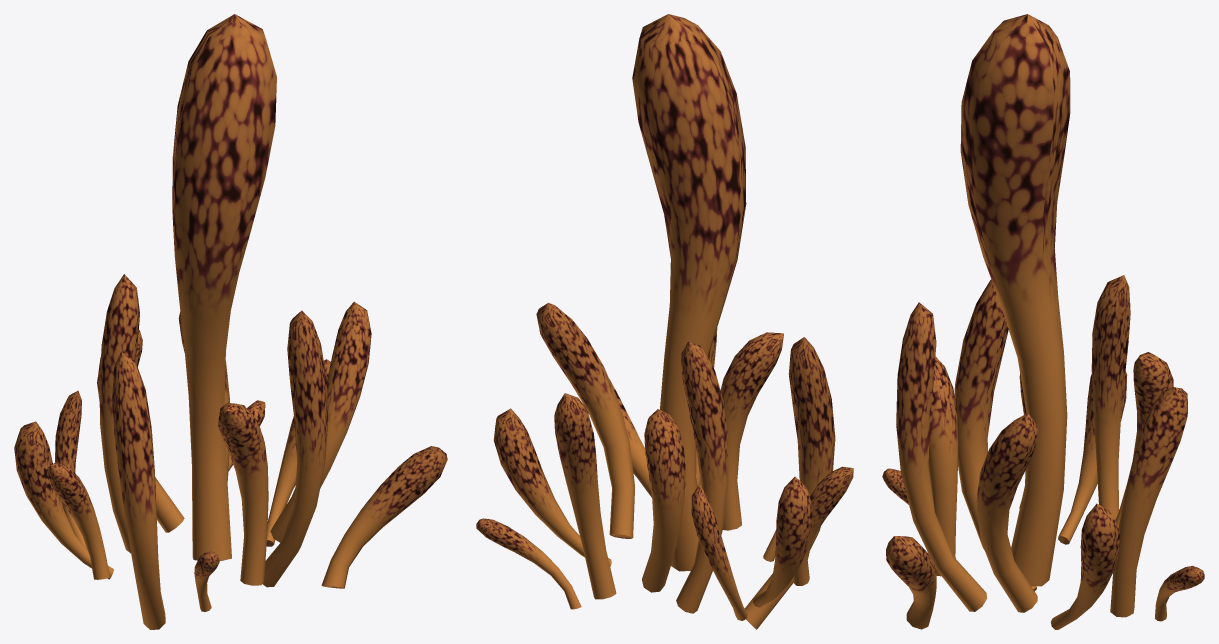
The model's file is cordyceps.glb.
3 renders of one model, left to right at view 1: azimuth 30°, elevation 25°; view 2: azimuth 150°, elevation 25°; view 3: azimuth 270°, elevation 25°, orthographic. The views are drawn at different scales.
Parts seen in each view (by area): view 1: NurbsPath, NurbsPath.007, NurbsPath.008, NurbsPath.003, NurbsPath.001, NurbsPath.005, NurbsPath.010, NurbsPath.012, NurbsPath.002, NurbsPath.014, NurbsPath.009, NurbsPath.004 (+1 smaller); view 2: NurbsPath, NurbsPath.001, NurbsPath.010, NurbsPath.011, NurbsPath.007, NurbsPath.004, NurbsPath.003, NurbsPath.009, NurbsPath.012, NurbsPath.014, NurbsPath.006, NurbsPath.002 (+1 smaller); view 3: NurbsPath, NurbsPath.008, NurbsPath.011, NurbsPath.007, NurbsPath.010, NurbsPath.001, NurbsPath.003, NurbsPath.009, NurbsPath.005, NurbsPath.012, NurbsPath.004, NurbsPath.006 (+1 smaller).
Boxes of the visible parts, <box> form: NurbsPath: <box>172,14,276,560</box>; NurbsPath.007: <box>112,351,165,629</box>; NurbsPath.008: <box>263,310,328,587</box>; NurbsPath.003: <box>218,403,268,585</box>; NurbsPath.001: <box>270,301,371,542</box>; NurbsPath.005: <box>321,446,447,588</box>; NurbsPath.010: <box>99,274,139,553</box>; NurbsPath.012: <box>14,421,113,579</box>; NurbsPath.002: <box>47,462,109,579</box>; NurbsPath.014: <box>55,390,87,550</box>; NurbsPath.009: <box>266,359,330,546</box>; NurbsPath.004: <box>97,330,184,532</box>; NurbsPath: <box>632,14,746,571</box>; NurbsPath.001: <box>536,302,634,538</box>; NurbsPath.010: <box>676,341,728,613</box>; NurbsPath.011: <box>554,393,616,599</box>; NurbsPath.007: <box>744,337,835,629</box>; NurbsPath.004: <box>642,409,685,592</box>; NurbsPath.003: <box>720,332,783,530</box>; NurbsPath.009: <box>493,408,611,566</box>; NurbsPath.012: <box>753,476,812,607</box>; NurbsPath.014: <box>691,484,747,620</box>; NurbsPath.006: <box>476,518,581,609</box>; NurbsPath.002: <box>792,466,853,585</box>; NurbsPath: <box>960,14,1070,586</box>; NurbsPath.008: <box>896,302,986,611</box>; NurbsPath.011: <box>1110,387,1187,617</box>; NurbsPath.007: <box>954,279,1036,591</box>; NurbsPath.010: <box>1091,275,1130,519</box>; NurbsPath.001: <box>976,413,1037,612</box>; NurbsPath.003: <box>928,356,958,576</box>; NurbsPath.009: <box>1051,503,1120,629</box>; NurbsPath.005: <box>886,536,936,629</box>; NurbsPath.012: <box>1058,371,1127,544</box>; NurbsPath.004: <box>1115,352,1173,527</box>; NurbsPath.006: <box>1155,565,1204,621</box>.
Bounding box in the file's own units: 1.11 × 1.87 × 0.8649.
Materials: 1 (1 with a texture image).
